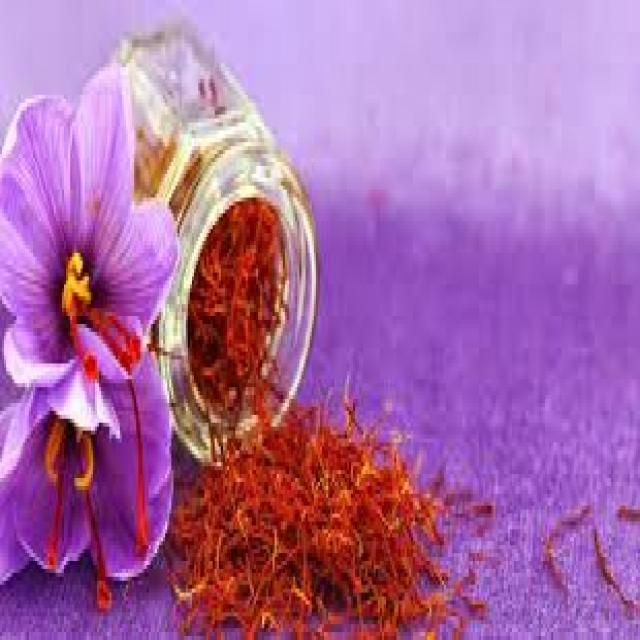Flower: (0, 76, 170, 390), (0, 359, 175, 592)
stigma: (34, 223, 147, 374), (115, 381, 159, 568), (76, 433, 115, 624), (42, 421, 62, 572)
